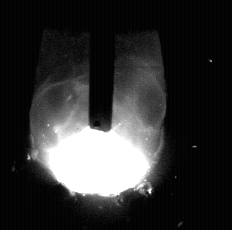arame: (89, 0, 114, 132)
poca: (31, 0, 166, 230)
